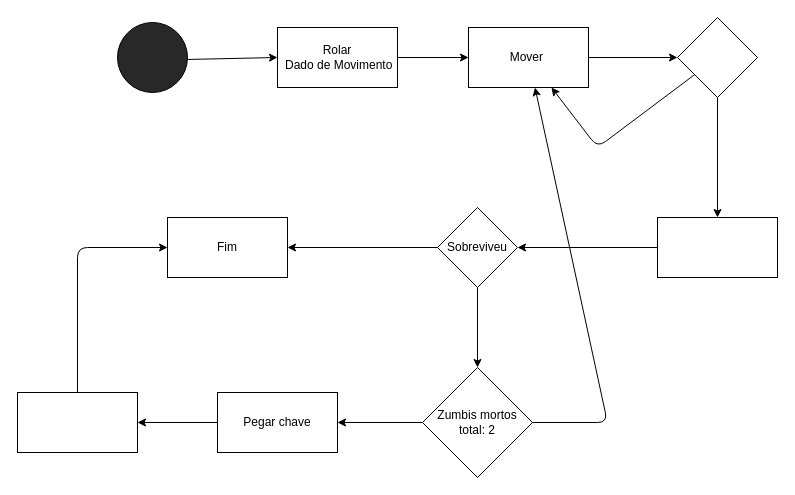
Image size: 795x495. Some labels were removed from this diagram. Here are the shapes that lost their labels. From the top down, the centre of each, then its label:
point 717,57: Encontrou Zumbi
point 717,247: Batalhar
point 77,422: Ir até portal
